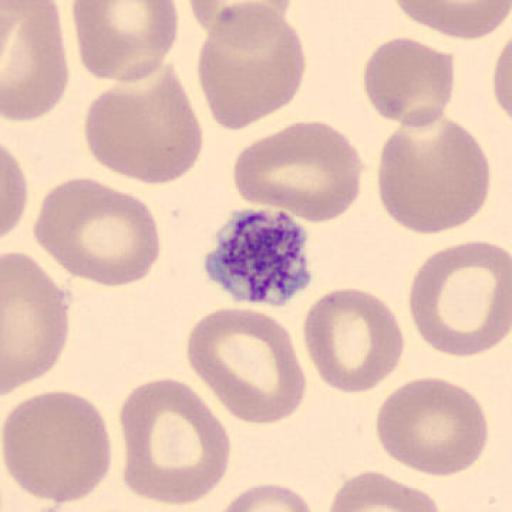Platelet: (202, 206, 316, 307)
RBC: (82, 62, 205, 186), (118, 376, 233, 506), (195, 2, 308, 132), (186, 307, 308, 425), (34, 176, 162, 288), (376, 114, 492, 236), (231, 119, 363, 225), (1, 388, 114, 506), (407, 240, 512, 358), (374, 375, 491, 478), (301, 284, 406, 396), (1, 250, 72, 394), (71, 0, 181, 83), (362, 36, 456, 128), (1, 0, 70, 123), (325, 469, 442, 512), (391, 0, 511, 41), (187, 0, 295, 38), (212, 482, 316, 512), (192, 0, 296, 27), (1, 143, 29, 241), (208, 0, 294, 23), (492, 33, 512, 128), (492, 44, 512, 122)
